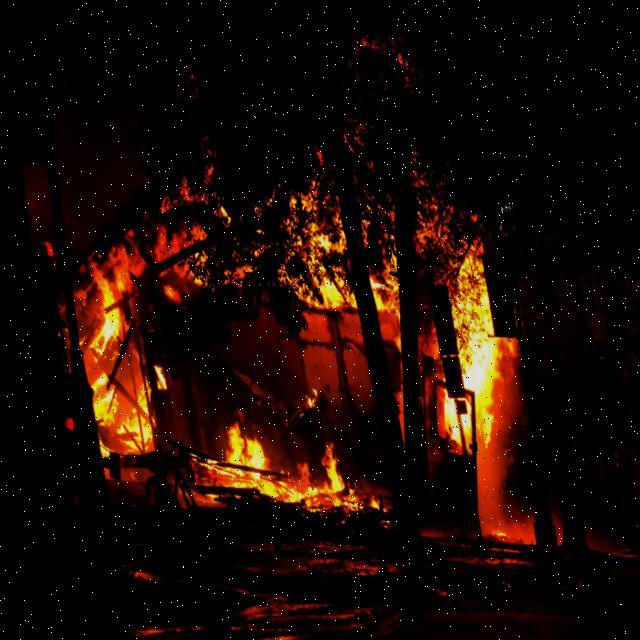Fire: (37, 39, 520, 527)
